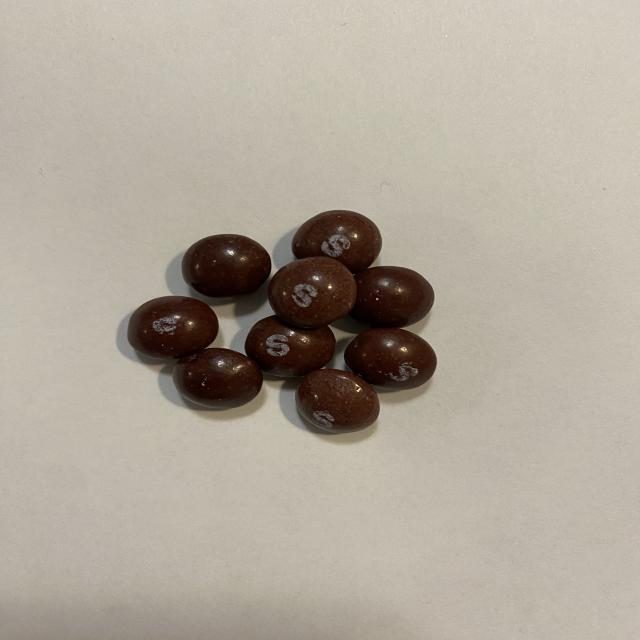smartie: (268, 257, 357, 329), (344, 328, 437, 391), (291, 210, 382, 274), (126, 296, 218, 359), (181, 234, 271, 298), (244, 315, 335, 377), (172, 348, 262, 409), (295, 369, 380, 433), (349, 266, 434, 328)
